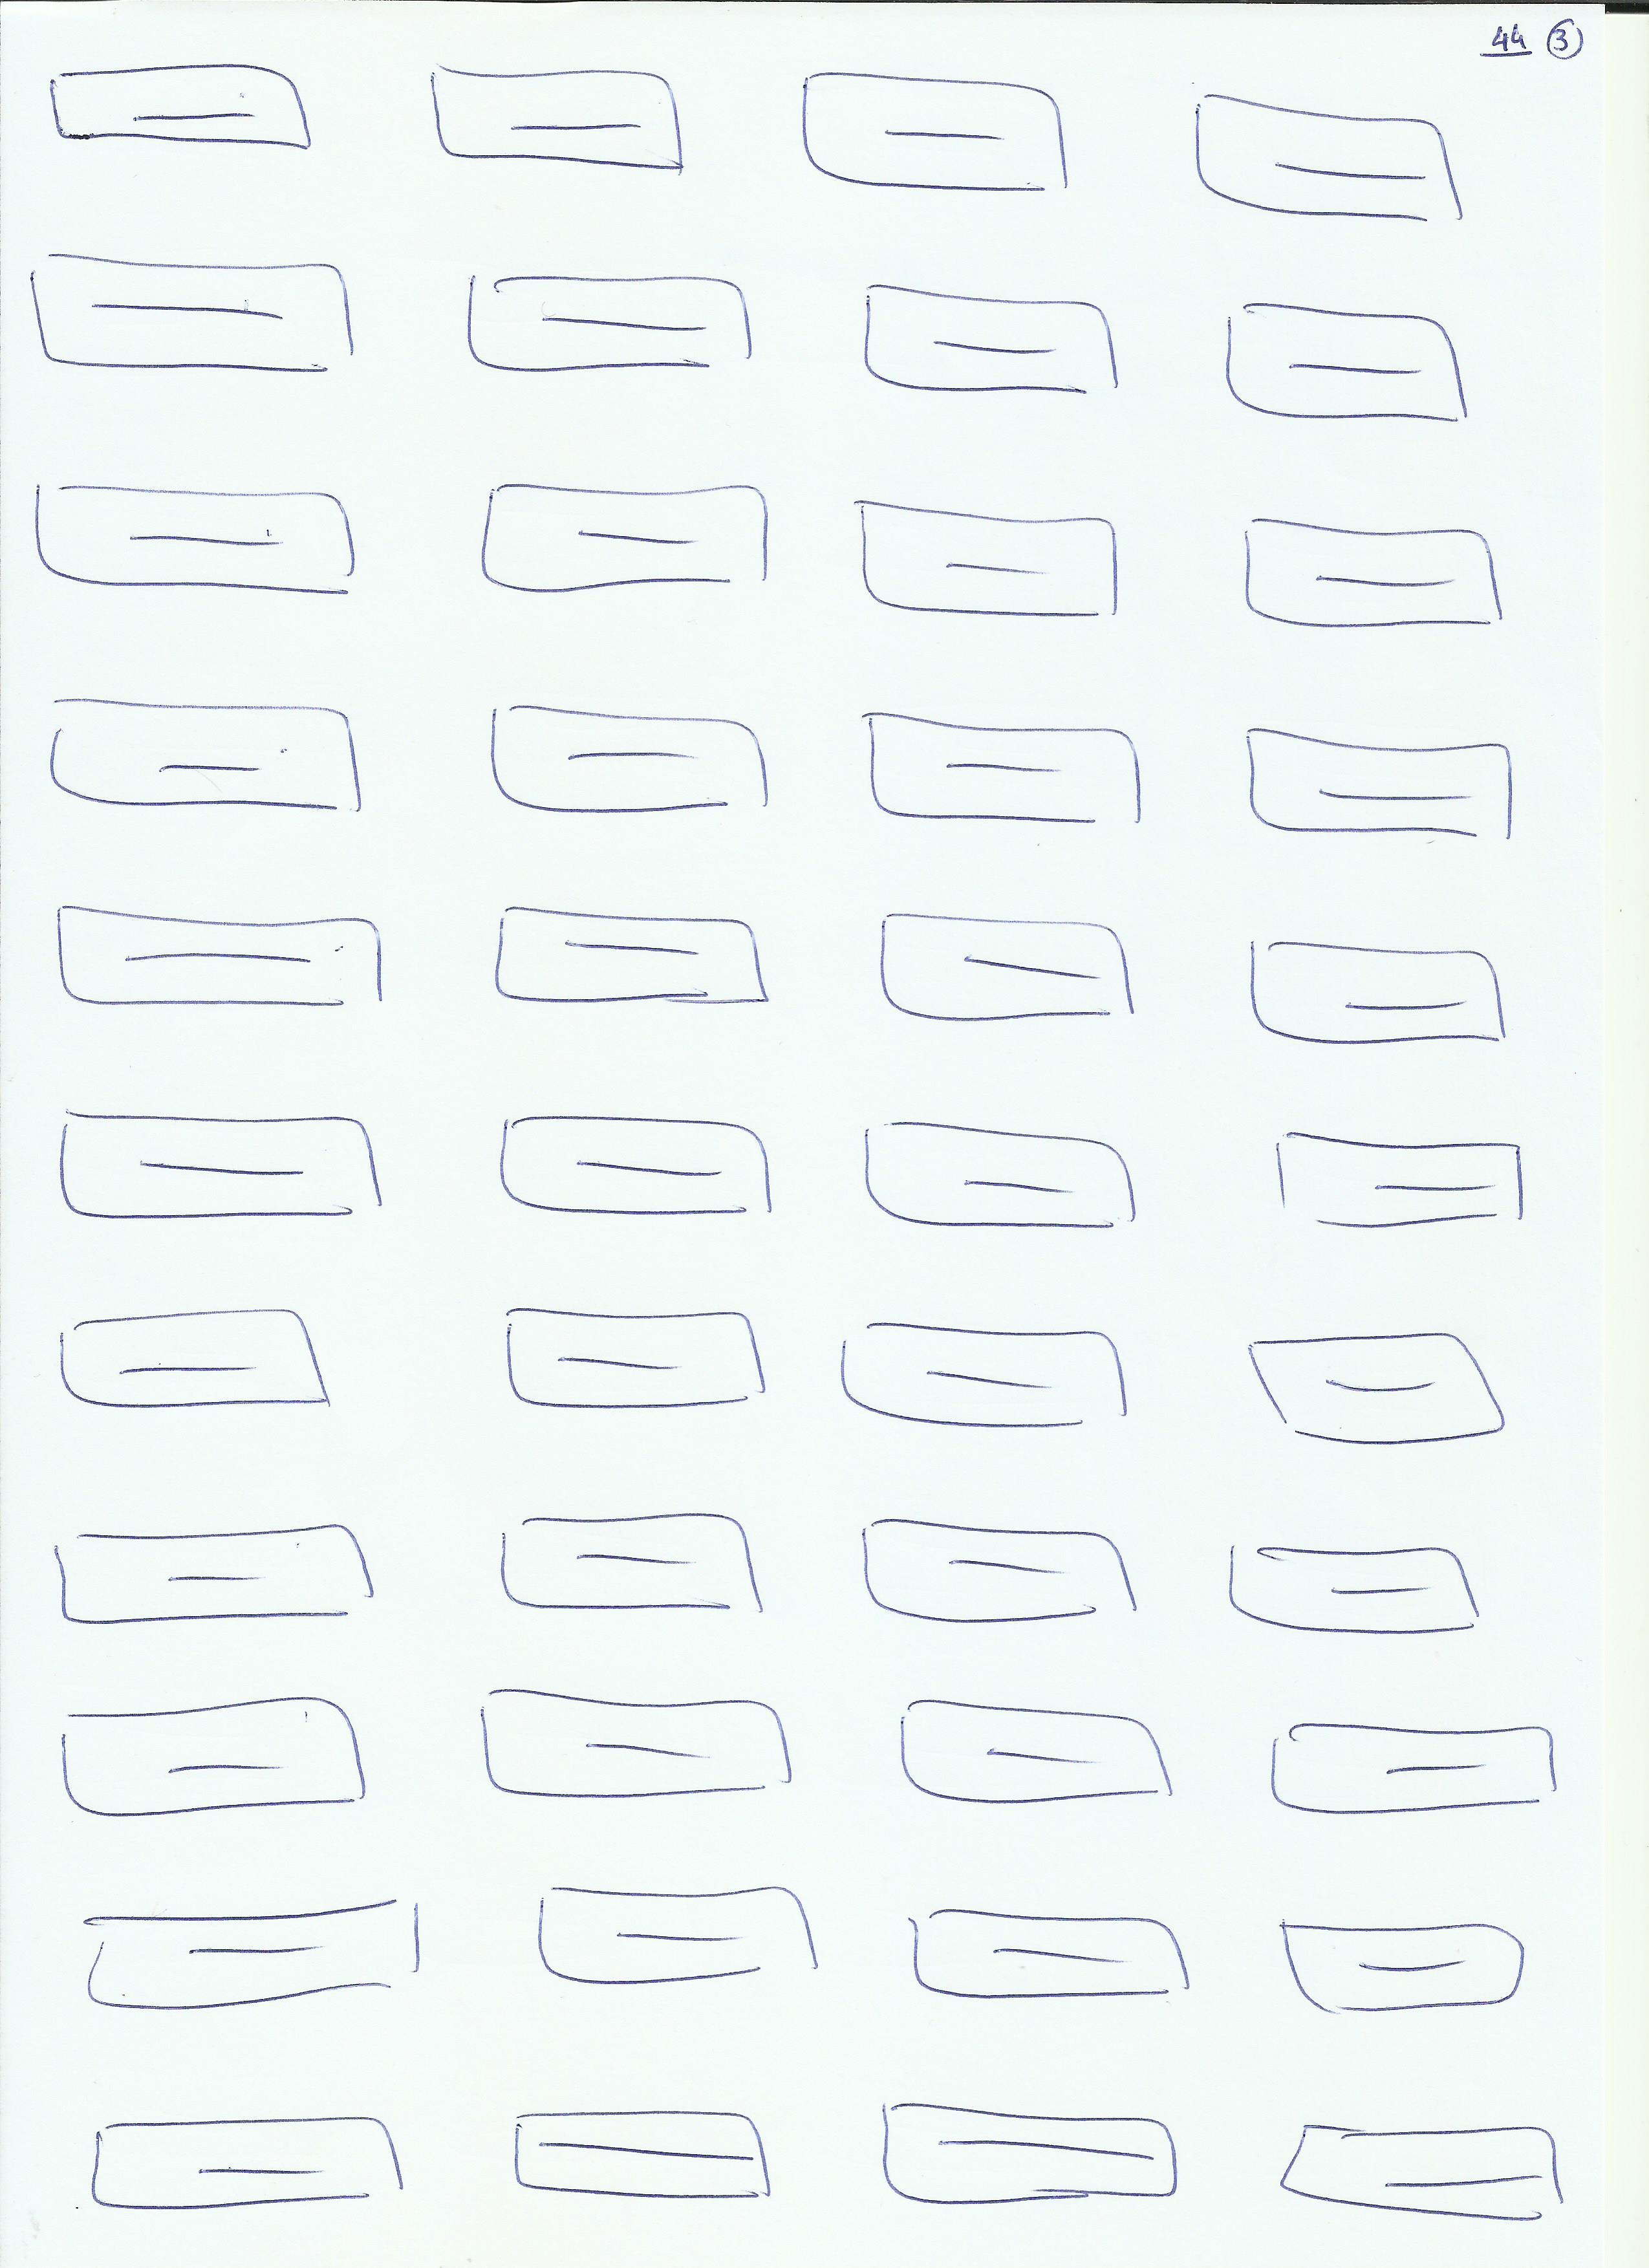edit_text: (18, 465, 370, 606), (70, 1884, 431, 2018), (18, 250, 366, 382), (42, 1687, 377, 1824), (46, 889, 387, 1016), (49, 1104, 391, 1231), (1177, 85, 1477, 229), (794, 56, 1077, 208), (473, 1673, 797, 1805), (1207, 285, 1480, 440), (83, 2097, 412, 2219), (39, 692, 366, 814), (854, 703, 1149, 836), (890, 1683, 1188, 1815), (473, 472, 780, 599), (876, 2090, 1186, 2215), (854, 490, 1128, 630), (1232, 717, 1519, 850), (480, 699, 776, 828), (49, 1518, 380, 1632), (825, 1317, 1135, 1439), (484, 1097, 780, 1224), (898, 1888, 1193, 2014), (846, 271, 1125, 405), (484, 1296, 780, 1421), (1267, 2118, 1580, 2236), (521, 1874, 829, 1993), (456, 261, 757, 382), (1253, 1712, 1566, 1828), (1242, 1324, 1512, 1456), (859, 1113, 1142, 1238), (1242, 926, 1515, 1055), (53, 1298, 345, 1417), (419, 56, 697, 181), (484, 893, 776, 1011), (487, 1504, 766, 1625), (873, 903, 1139, 1030), (1232, 512, 1508, 634), (852, 1518, 1146, 1631), (1260, 1905, 1536, 2025), (1214, 1532, 1494, 1645), (503, 2097, 776, 2212), (1271, 1123, 1529, 1241), (39, 60, 322, 157)
